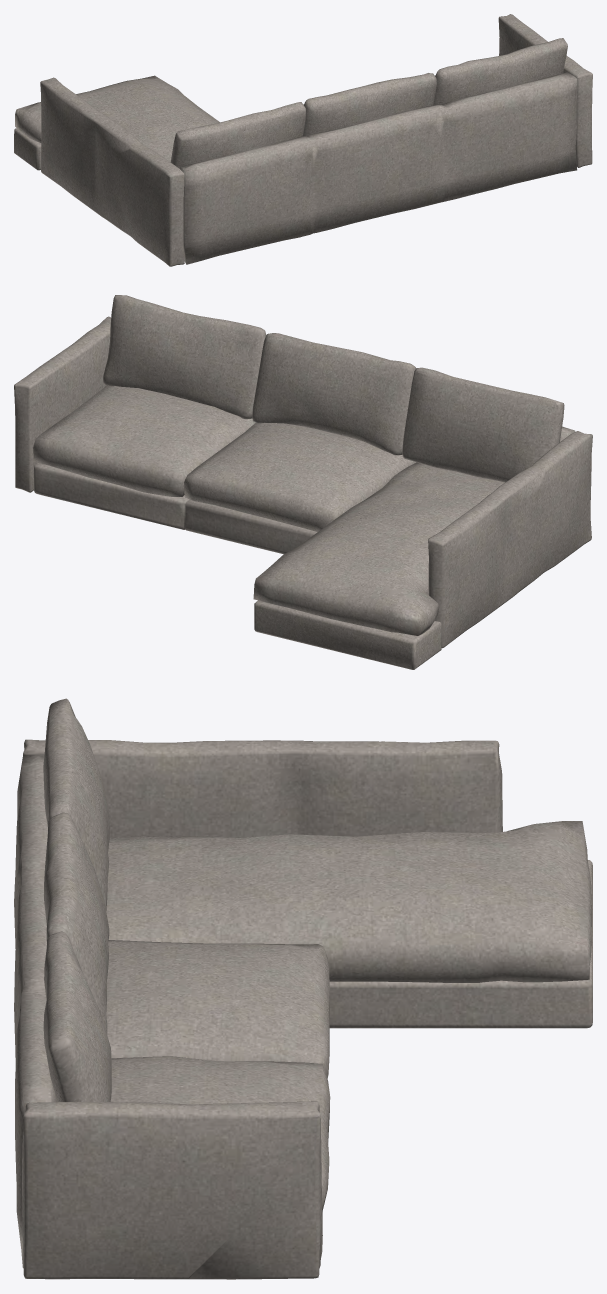
File: sofa_1.glb
The picture shows the model from 3 angles, top to bottom: view 1: azimuth 30°, elevation 25°; view 2: azimuth 150°, elevation 25°; view 3: azimuth 270°, elevation 25°; orthographic projection. The views are drawn at different scales.
Size of the model in its own units: 3.07 by 0.8616 by 1.97.
Materials: 1 (1 with a texture image).
